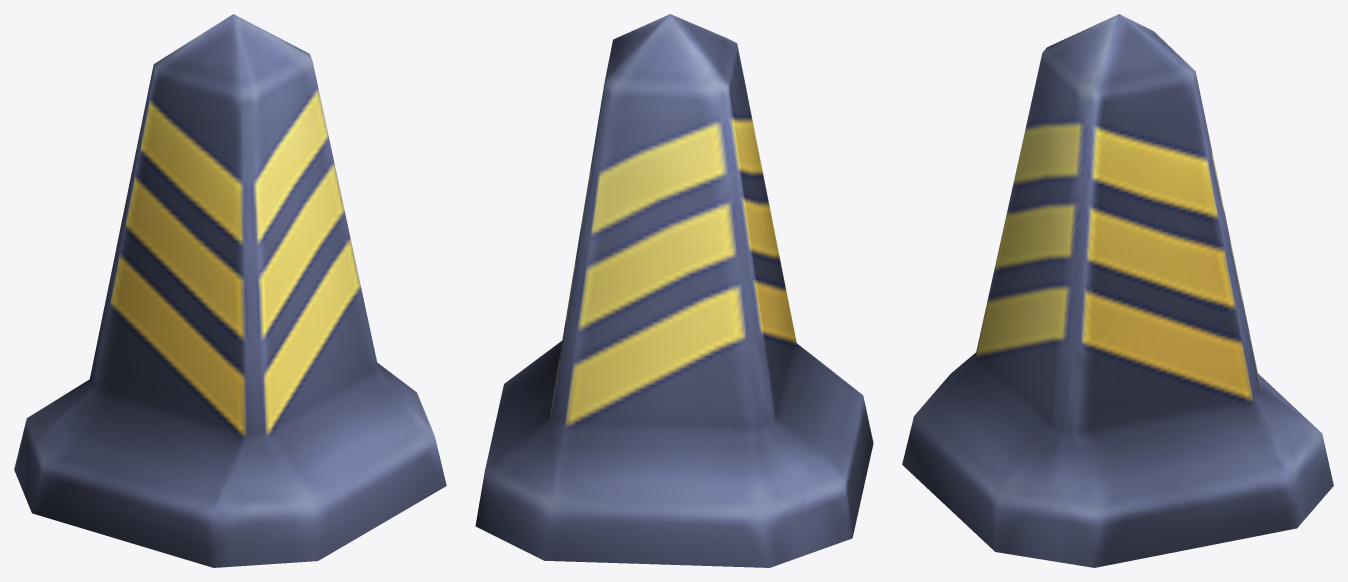
The model's file is LuZhang.FBX.
The picture shows the model from 3 angles, left to right: view 1: azimuth 30°, elevation 25°; view 2: azimuth 150°, elevation 25°; view 3: azimuth 270°, elevation 25°; orthographic projection.
Parts seen in each view (by area): view 1: luzhang; view 2: luzhang; view 3: luzhang.
Part boxes in pixels (x1,y1,x2,y2): luzhang: (14, 14, 446, 567); luzhang: (475, 14, 873, 567); luzhang: (902, 14, 1333, 567).
Bounding box in the file's own units: 3.28 × 3.28 × 3.9.
